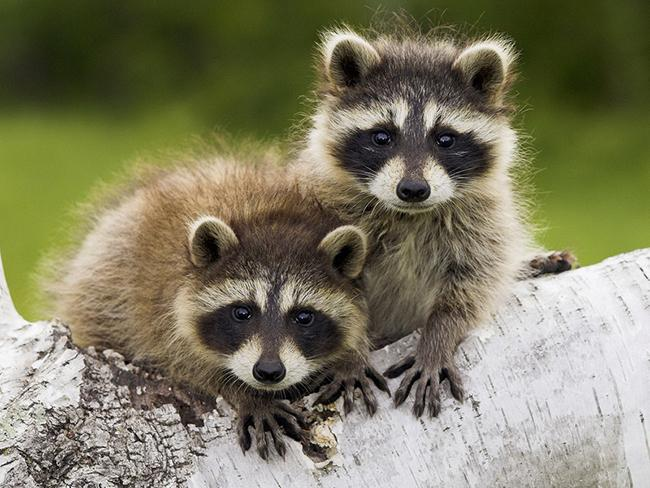raccoon: (295, 19, 567, 404), (44, 150, 389, 453)
